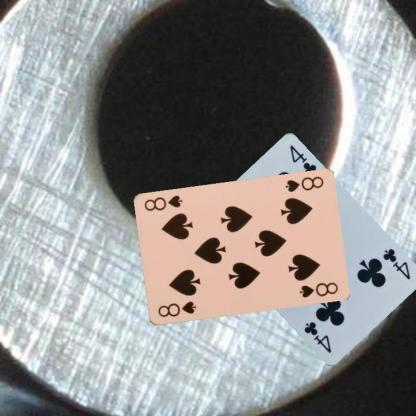4c: (380, 245, 412, 280)
8s: (155, 299, 197, 319), (282, 174, 324, 193)
